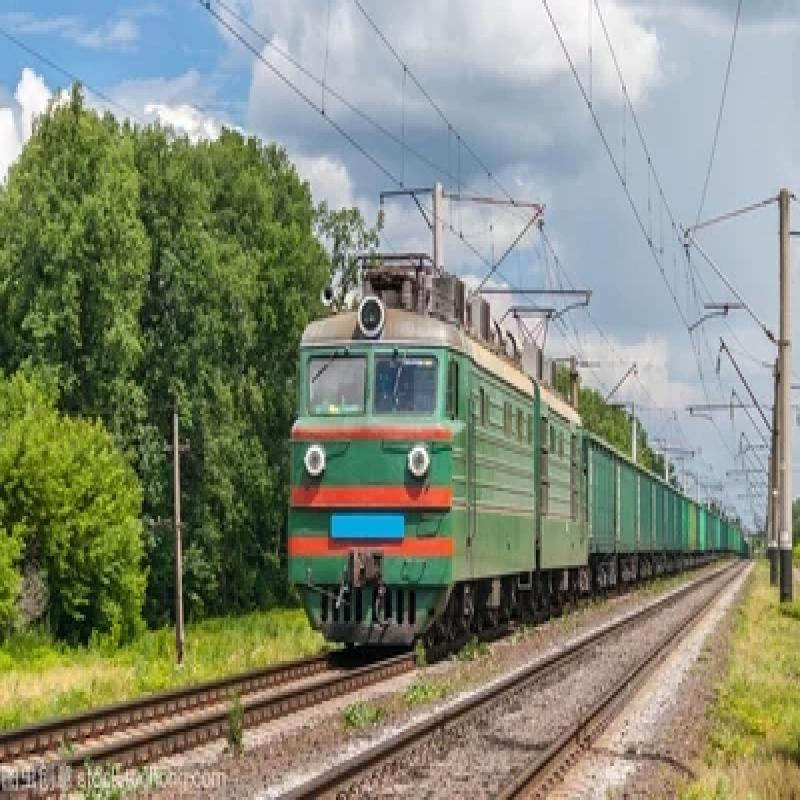train: (271, 257, 591, 659)
